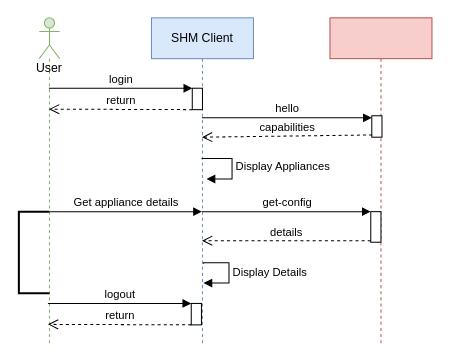
This 450x362 diagram has some shape labels left out. The shapes that lost their labels are listed below. From the top down, each one's box as (x1, y1, x2, y2) in pixels, then its label:
(329, 17, 432, 344): NETCONF Server
(17, 210, 50, 294): Repeat
